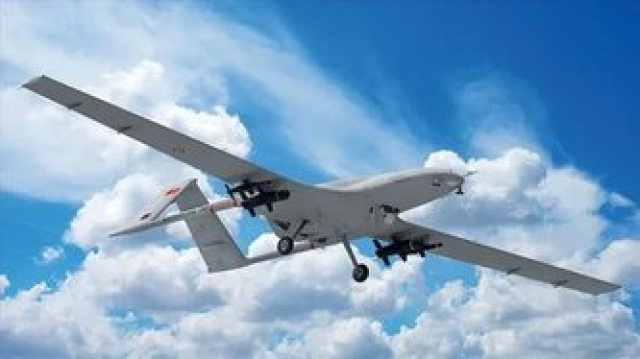military drone: (23, 74, 622, 296)
